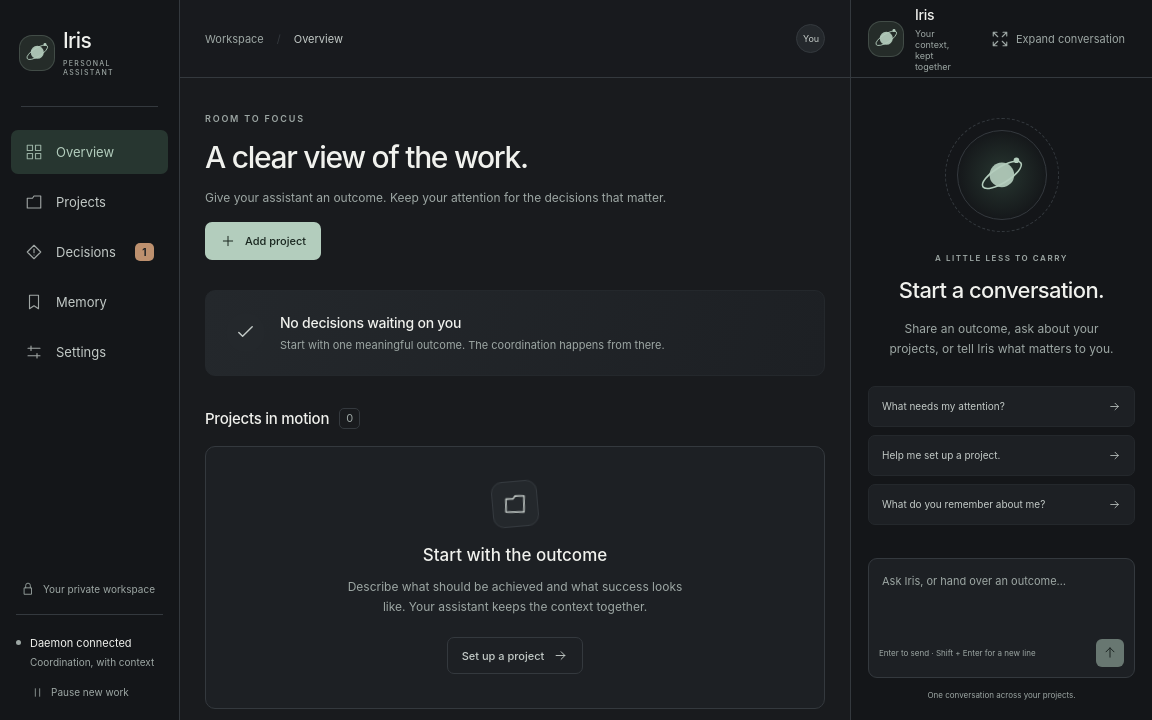
owner dashboard flows › requires an inspection note, preserves it after failure, and never retries interrupted work
Click the button "Decisions 1": click(90, 252) [11, 230, 168, 274]
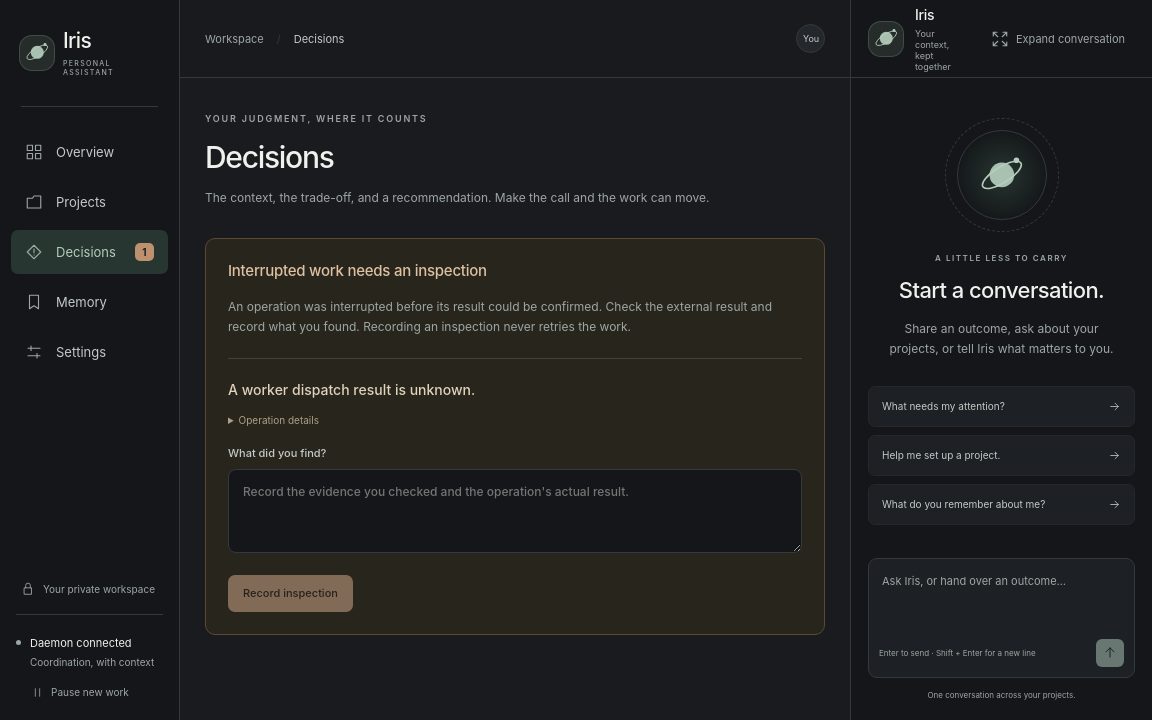
Check: the text "Nothing needs your decision" is not shown
Check: the button "Record inspection" is disabled, box [228, 575, 353, 612]
Replace the text in the text box labelled "What did you find?" with "Checked broker logs: dispatch was not accepted.": (515, 511) [228, 469, 802, 553]
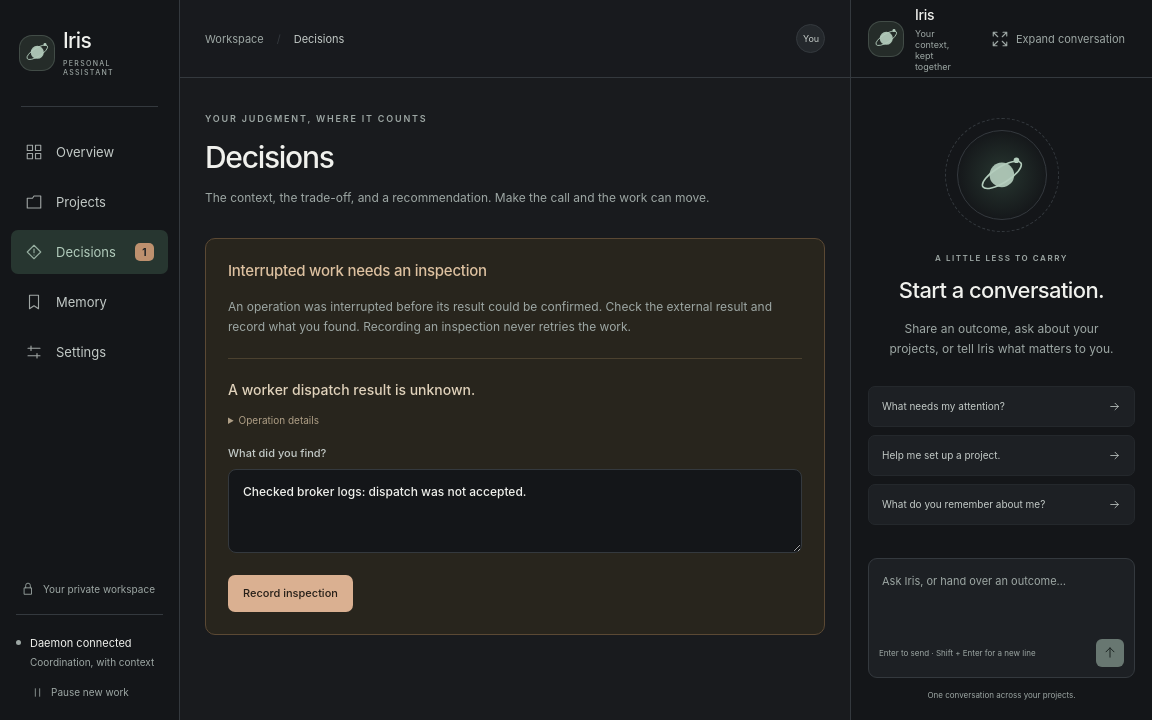
Click the button "Record inspection": click(290, 593) [228, 575, 353, 612]
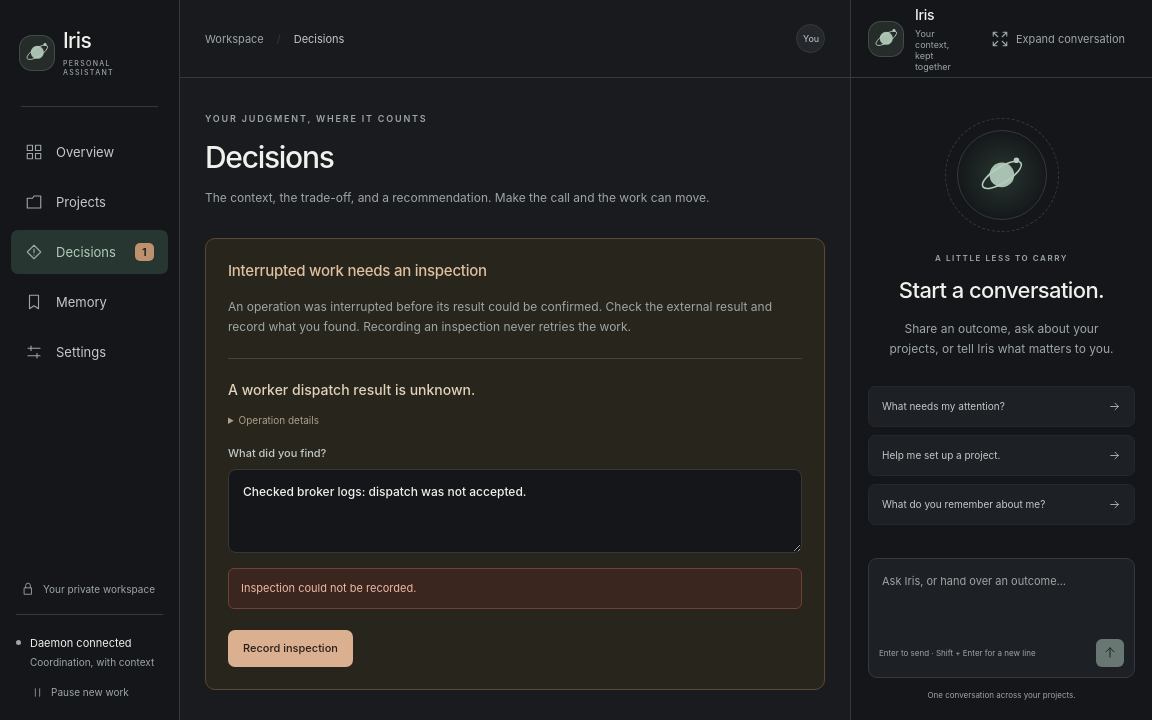
Check: the message reads "Inspection could not be recorded.", box [241, 581, 416, 595]
Click the button "Record inspection": click(290, 648) [228, 630, 353, 666]
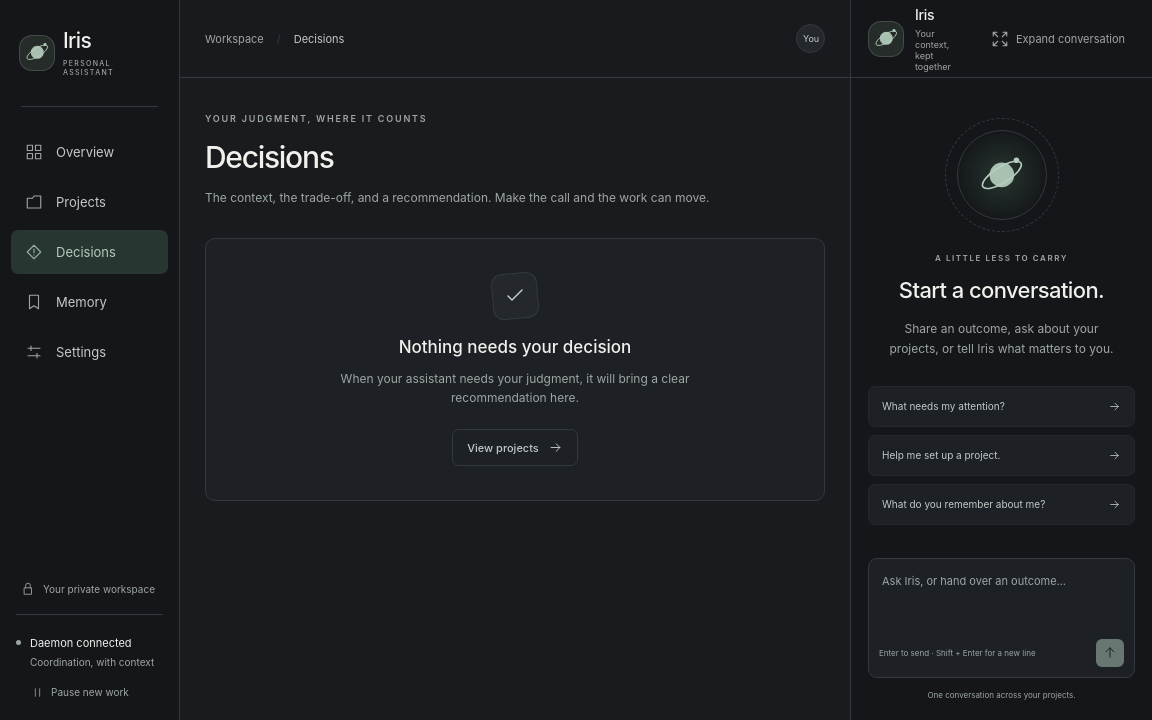
Check: the heading "Nothing needs your decision" is shown, box [399, 336, 631, 360]
